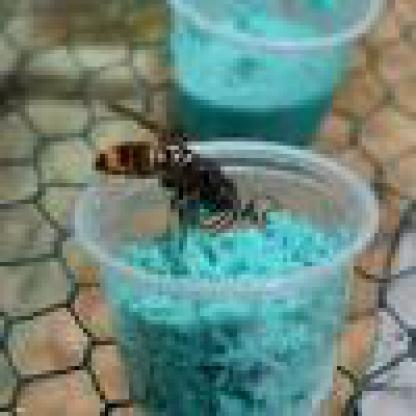asian: (96, 104, 262, 266)
